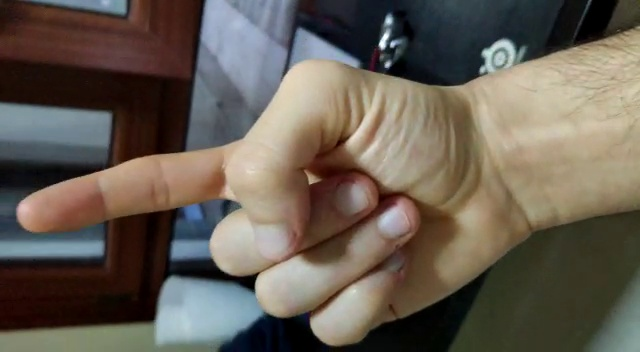One: (14, 133, 258, 238)
